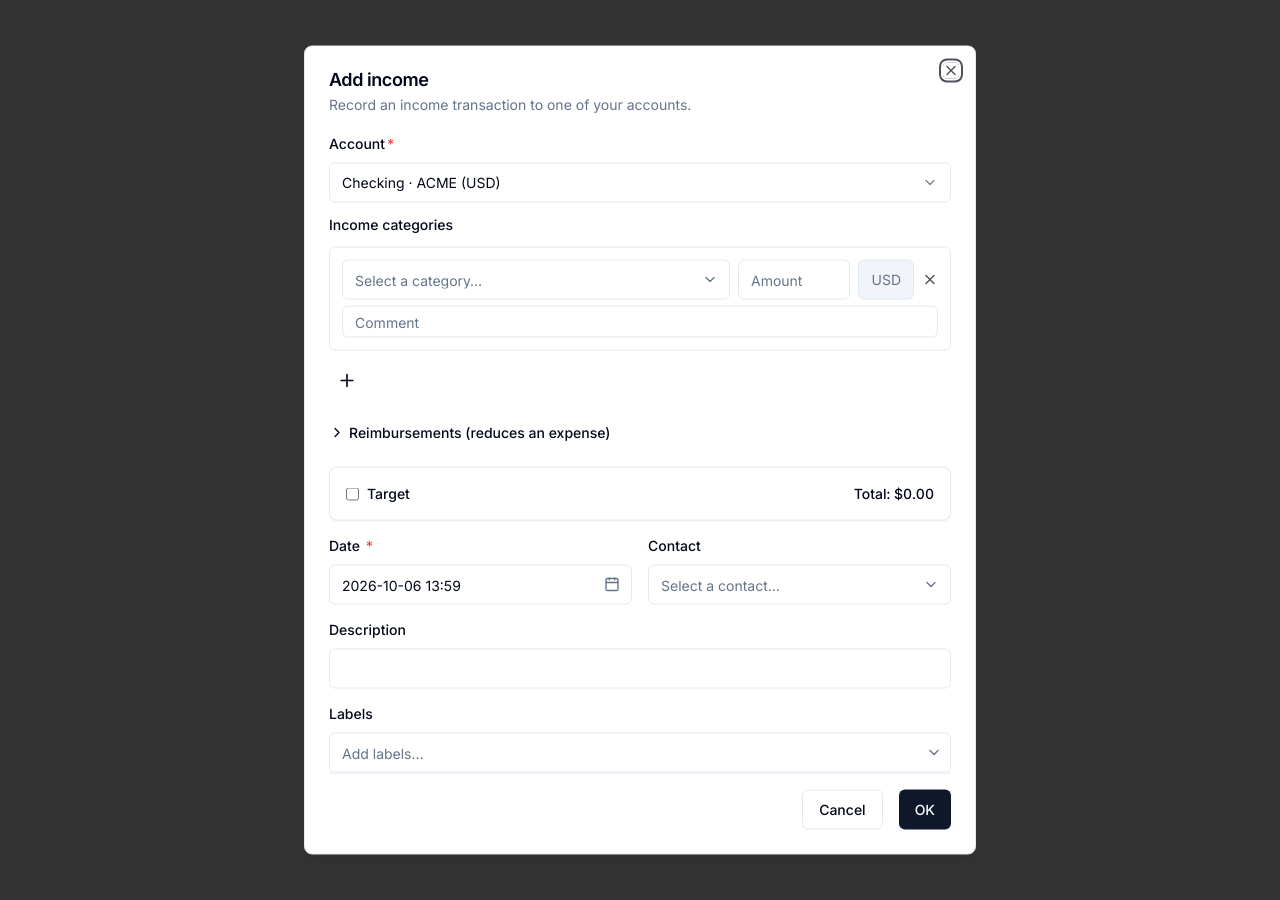
Test: CreateIncomeDialog › field error surfaces under the named field
Expected: the dialog "Add income" is shown, [304,46,976,854]
Expected: the dropdown named "account" is shown, [329,162,951,202]
Step 1. Click the dropdown labelled "Select a category…" → (536, 280), box [342,260,730,300]
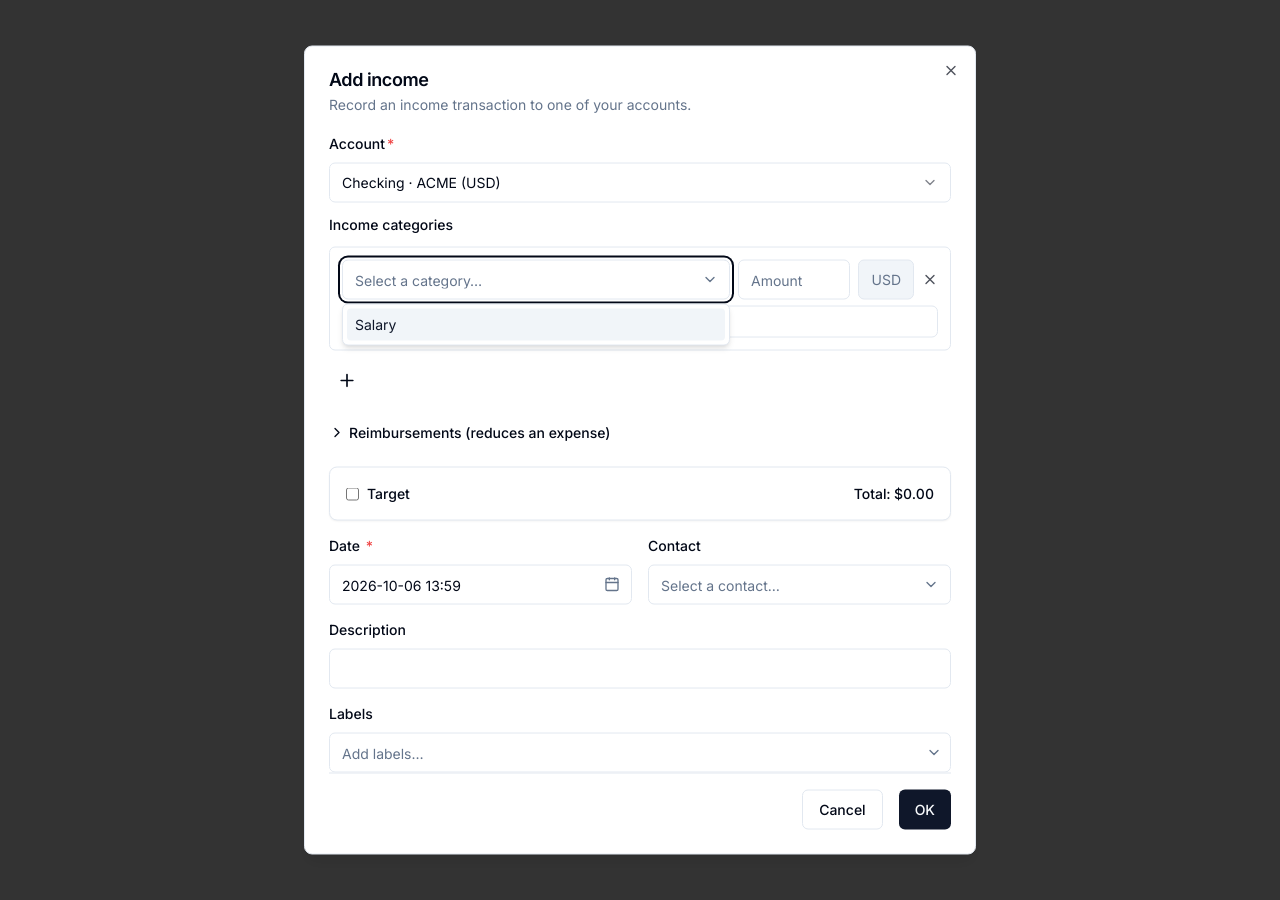
Step 2. Click the option "Salary" → (376, 324), box [347,308,725,340]
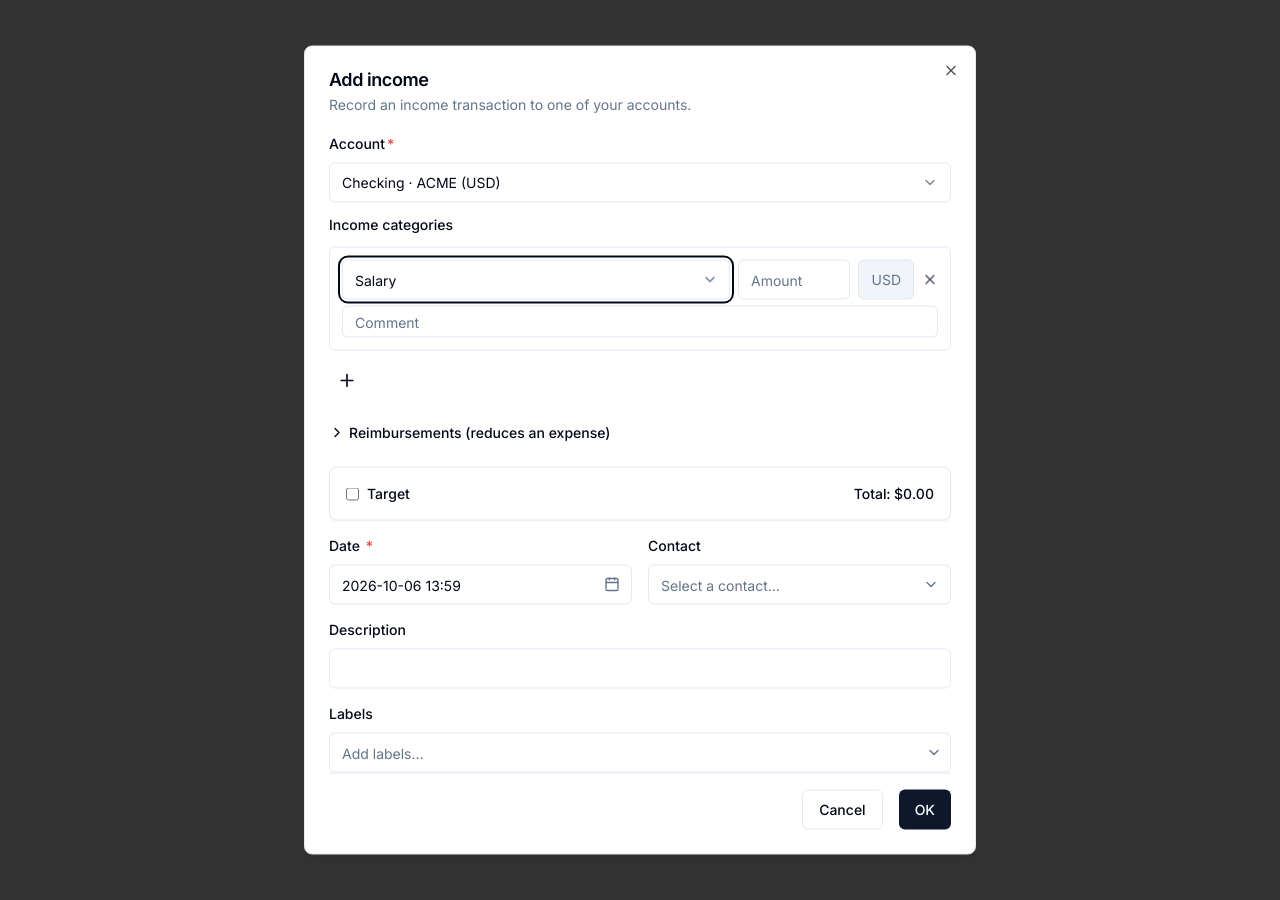
Step 3. Type "100" into the number field labelled "Amount" → (794, 280), box [738,260,850,300]
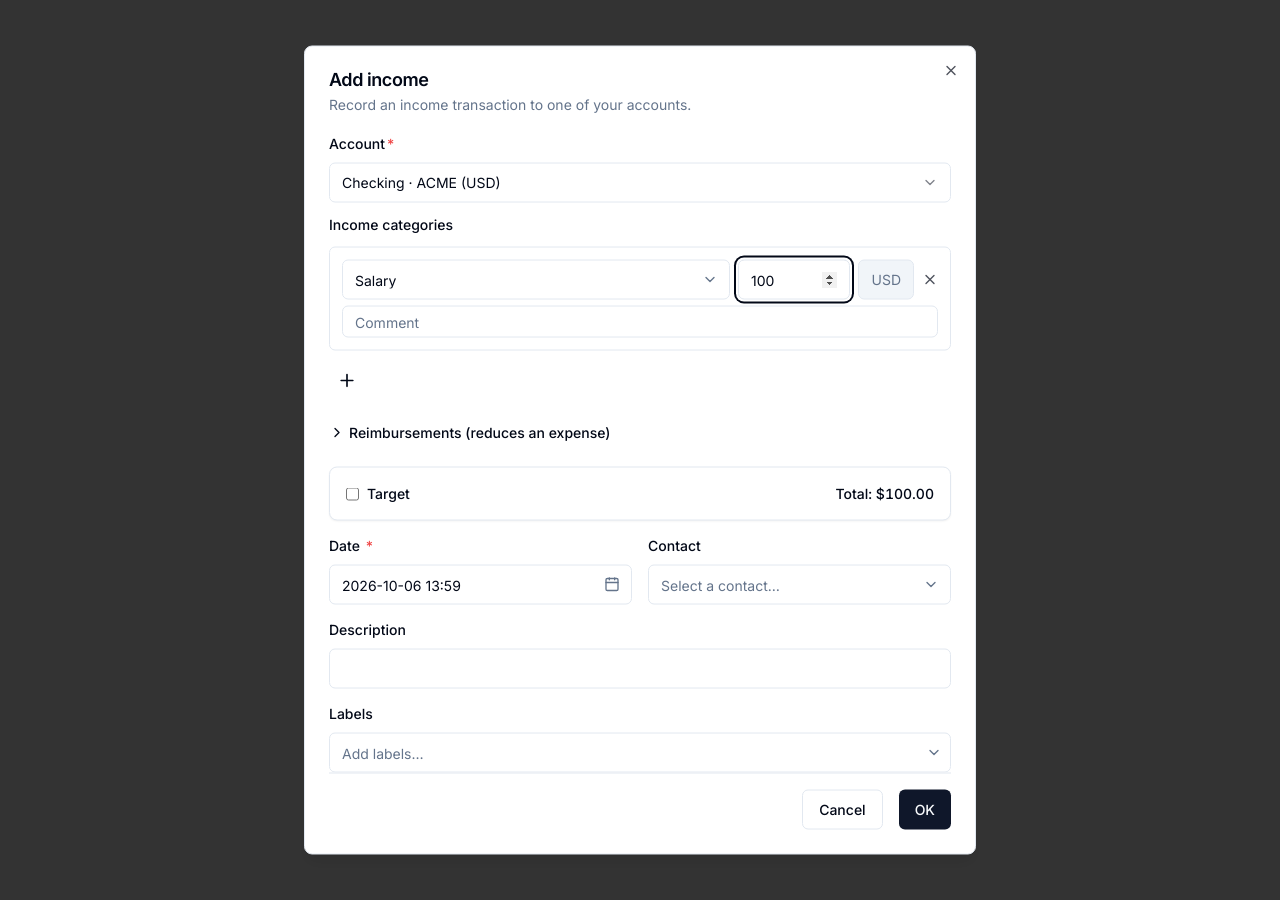
Step 4. Type "Salary" into the field labelled "Description" → (640, 668), box [329,648,951,688]
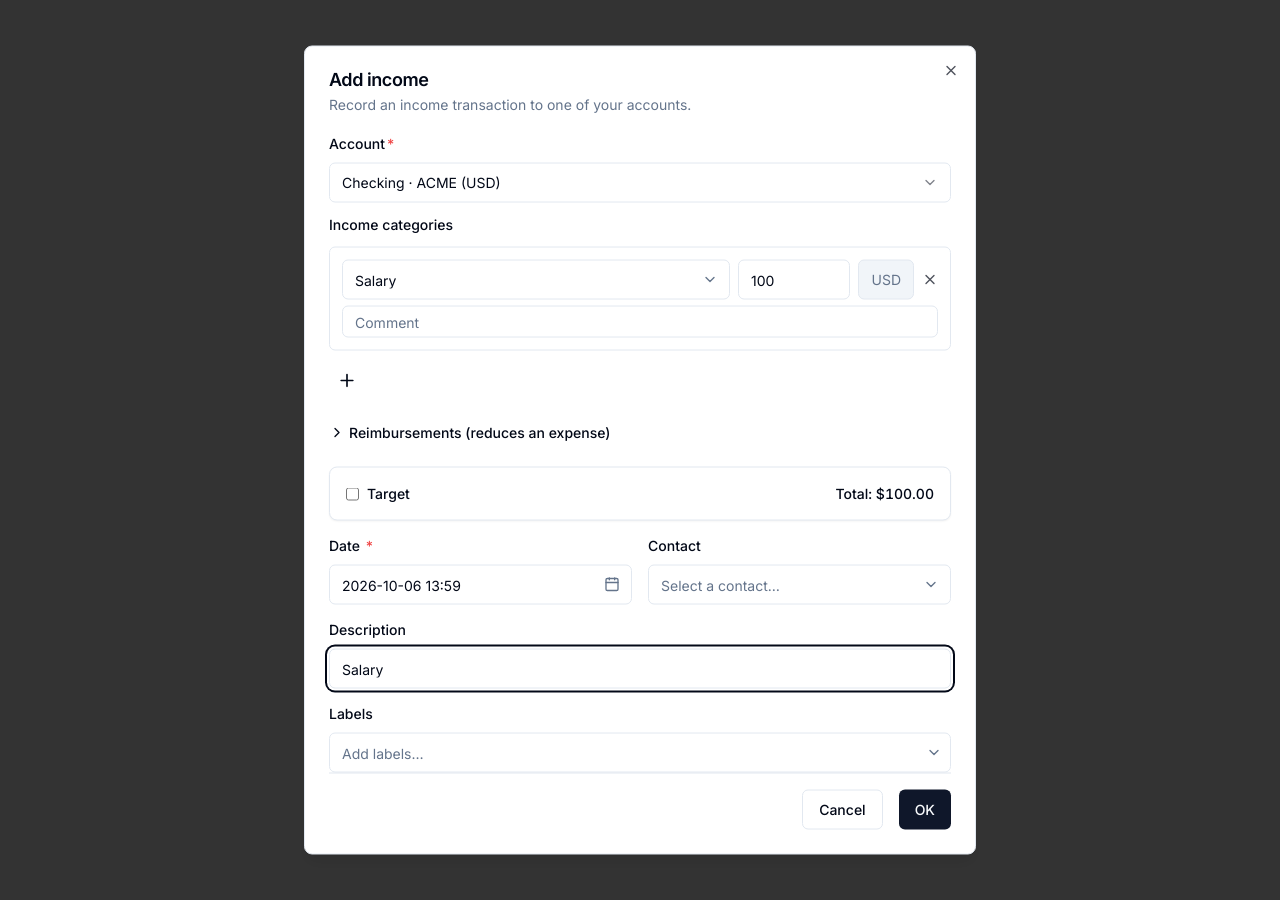
Step 5. Click the button "OK" → (925, 810), box [899,790,951,830]
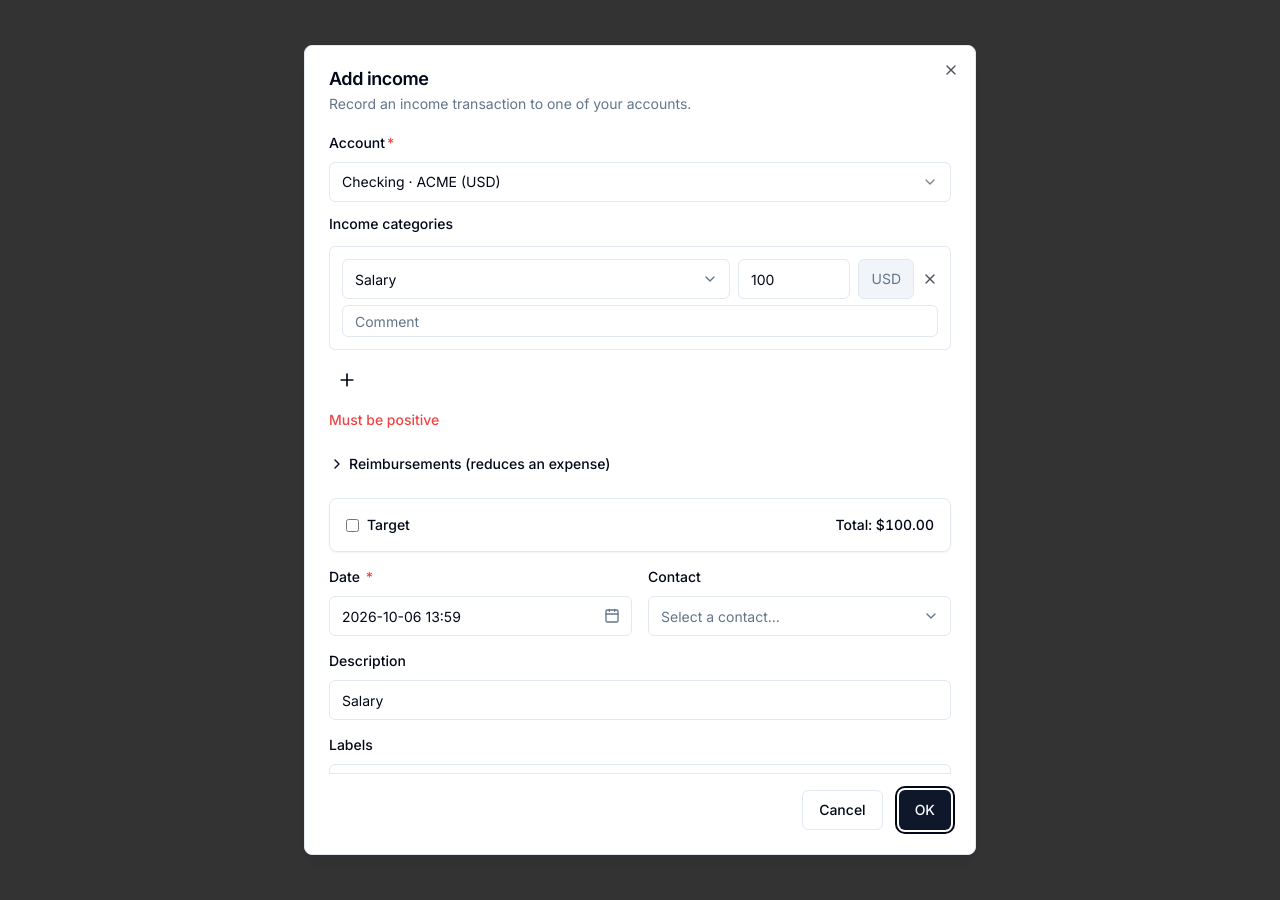
Expected: the text "Must be positive" is shown, [329,411,439,428]
